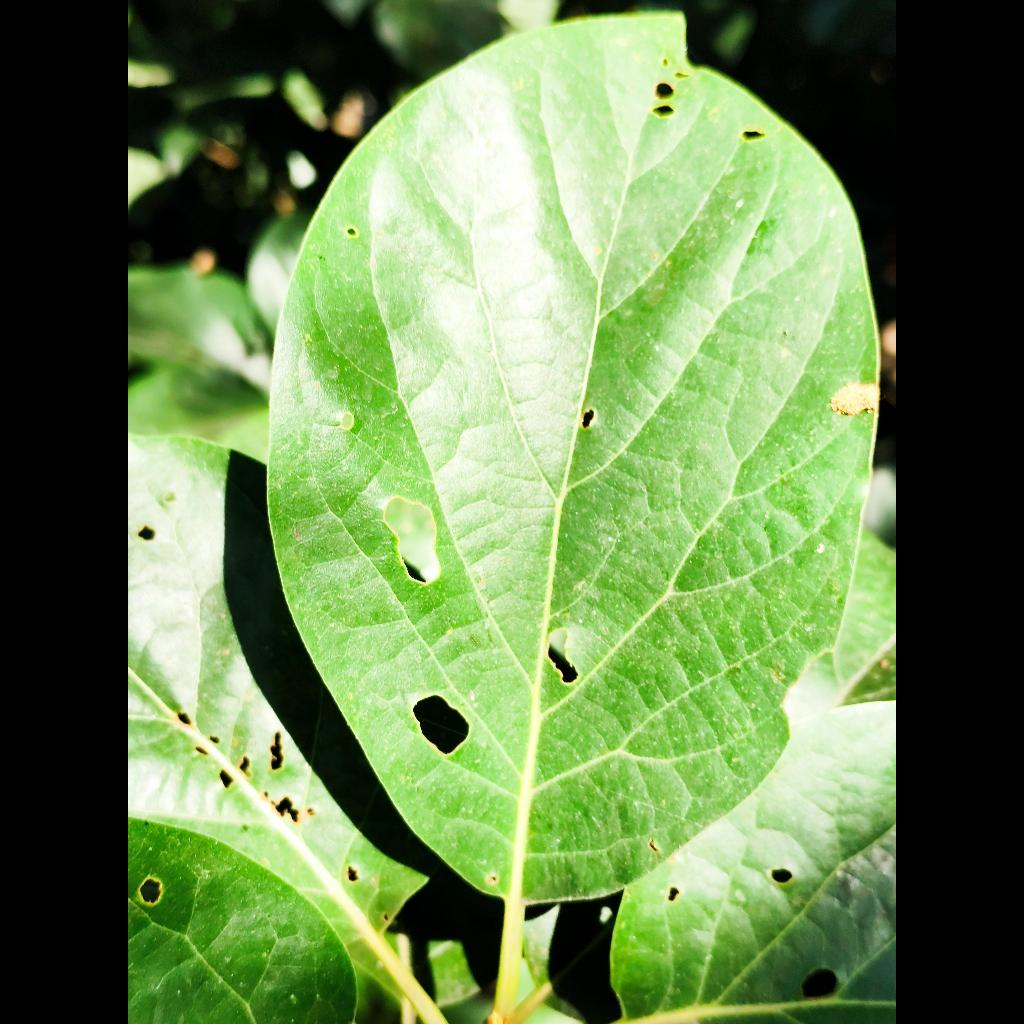plaga: (269, 14, 877, 934)
